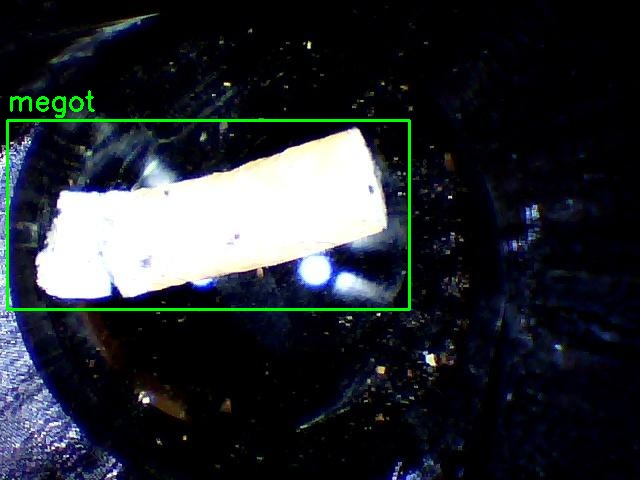megot: (7, 120, 409, 309)
